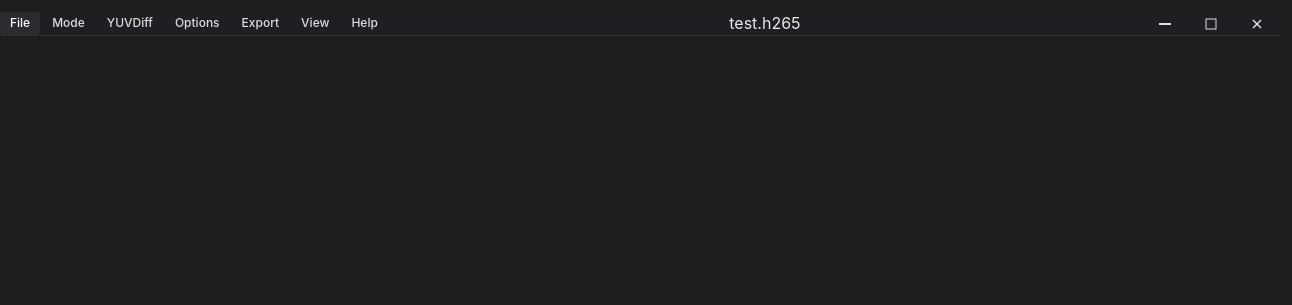
Scenario: TitleBar › should close menu when clicking away
Hover over the text "File" at (20, 24), box [10,15,30,32]
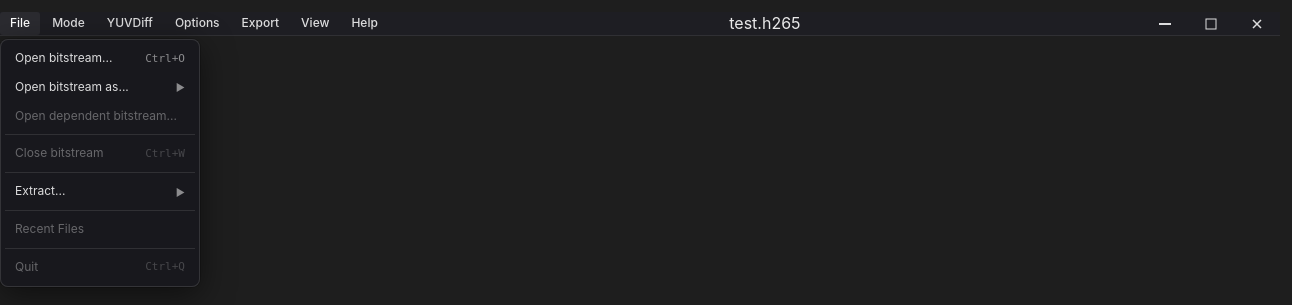
Result: the text "Open bitstream..." is shown at [15,50,125,67]
Mouse leave to close
Move the pointer off the element that starts with "File", box [0,12,40,35]
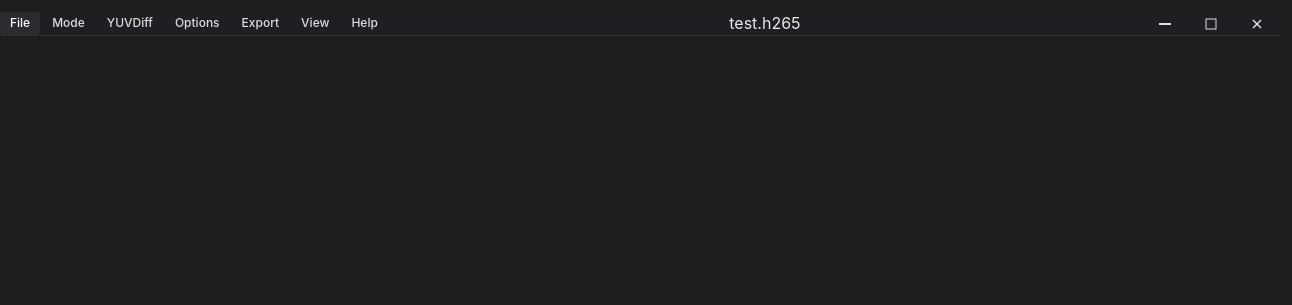
Result: the text "Open bitstream..." is gone
